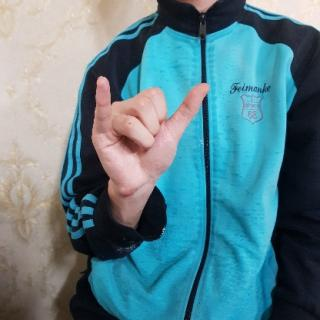YA: (90, 72, 214, 200)
